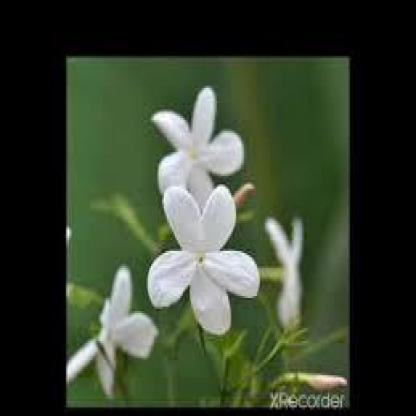Melati: (130, 168, 326, 331), (70, 246, 163, 411), (136, 78, 256, 198)
